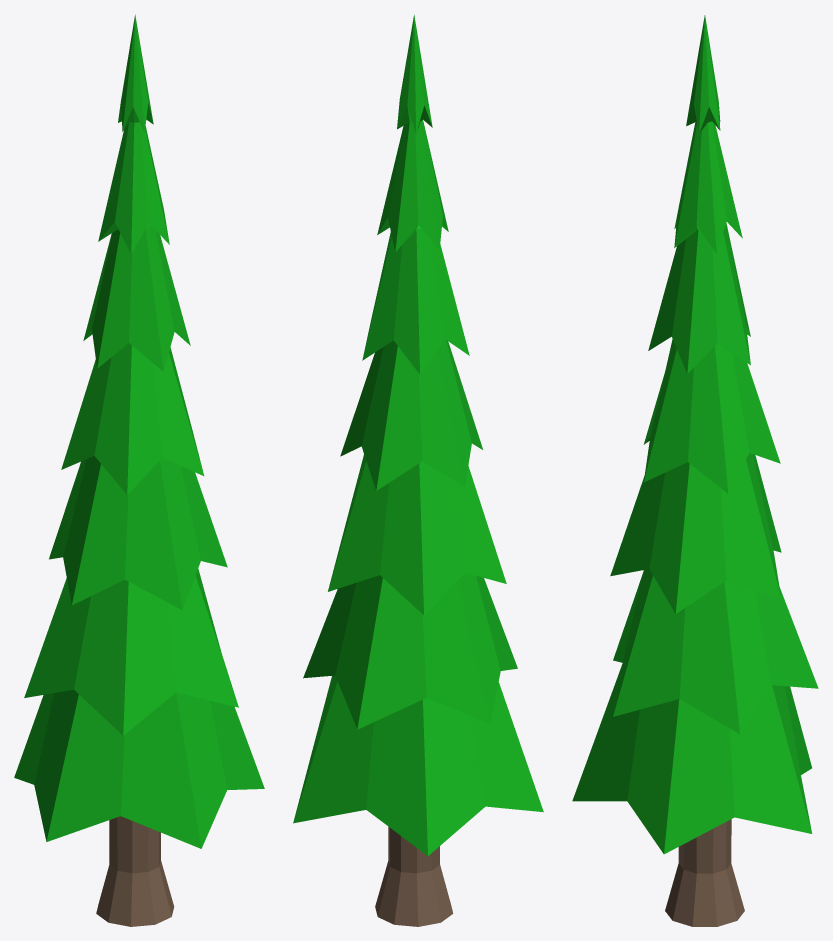
The model's file is Tree_Pine.fbx.
3 views of the same model, side by side, from view 1: azimuth 30°, elevation 25°; view 2: azimuth 150°, elevation 25°; view 3: azimuth 270°, elevation 25° (orthographic).
Parts seen in each view (by area): view 1: Cylinder.004; view 2: Cylinder.004; view 3: Cylinder.004.
Boxes of the visible parts, x1=… form: Cylinder.004: x1=14, y1=14, x2=264, y2=926; Cylinder.004: x1=293, y1=14, x2=543, y2=926; Cylinder.004: x1=572, y1=15, x2=818, y2=926.
Bounding box in the file's own units: 371 × 1453 × 362.
